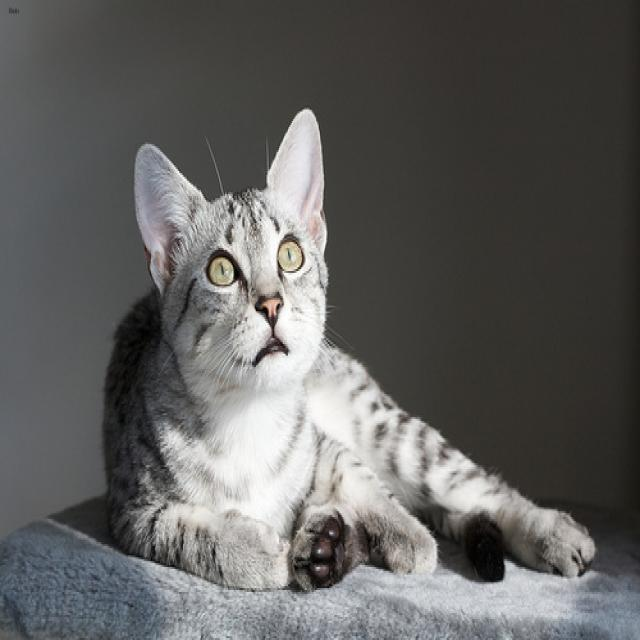Egyptian_Mau: (131, 107, 328, 410)
